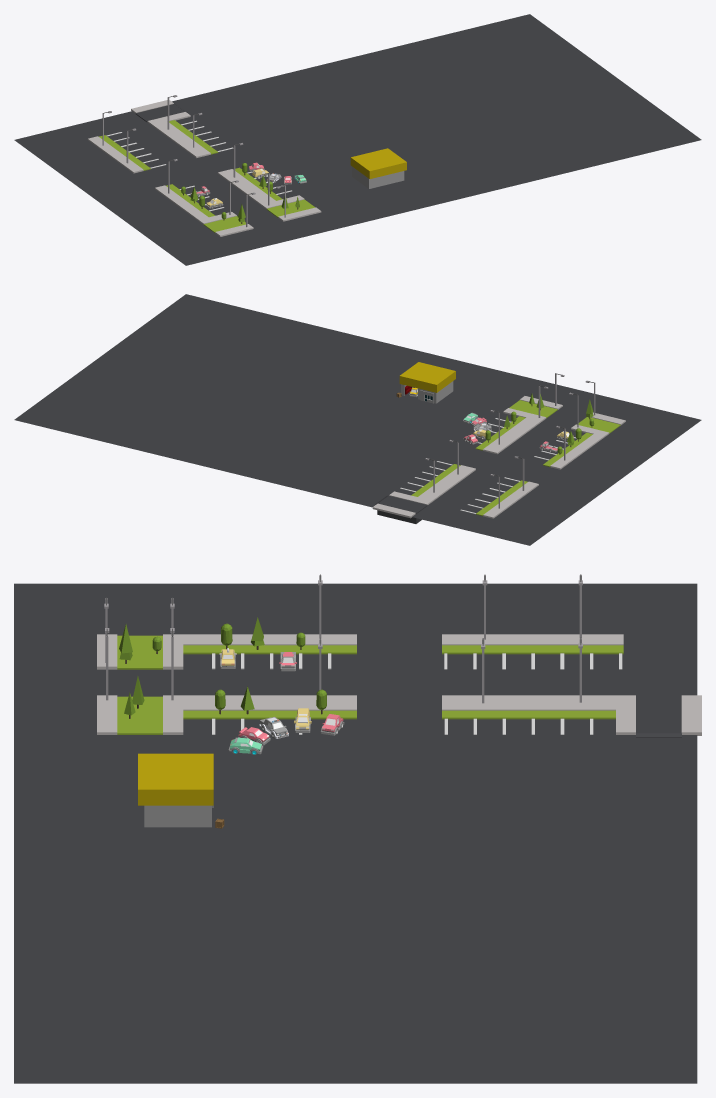
Rendered from main_menu_map.fbx.
The picture shows the model from 3 angles, top to bottom: view 1: azimuth 30°, elevation 25°; view 2: azimuth 150°, elevation 25°; view 3: azimuth 270°, elevation 25°; orthographic projection. The views are drawn at different scales.
Parts seen in each view (by area): view 1: Cone.006_Cone.032; view 2: Cone.006_Cone.032; view 3: Cone.006_Cone.032.
Boxes of the visible parts, x1,y1,x2,y2 form: Cone.006_Cone.032: (14, 14, 701, 265); Cone.006_Cone.032: (14, 294, 701, 545); Cone.006_Cone.032: (14, 574, 701, 1083).
Bounding box in the file's own units: 10052 × 812 × 5845.
